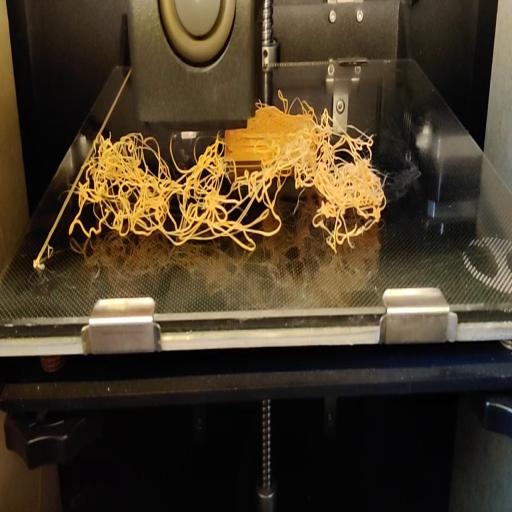spaghetti: (64, 123, 392, 260), (255, 92, 334, 124)
